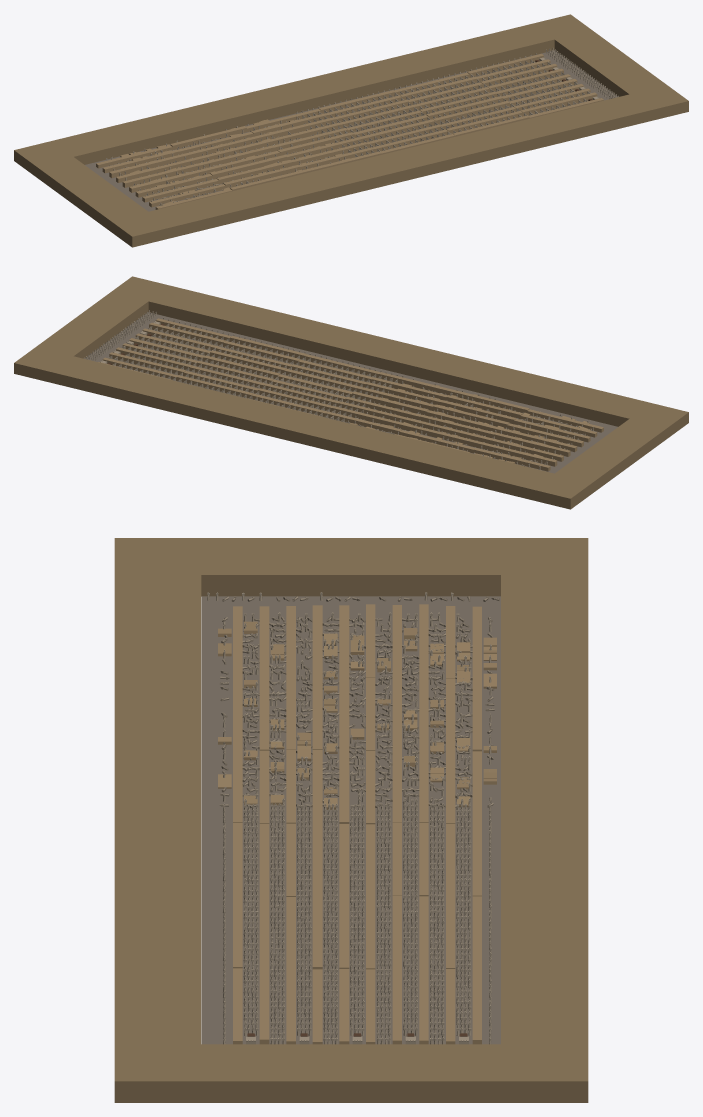
File: terracotta-army-ruin.glb
The picture shows the model from 3 angles, top to bottom: view 1: azimuth 30°, elevation 25°; view 2: azimuth 150°, elevation 25°; view 3: azimuth 270°, elevation 25°; orthographic projection. The views are drawn at different scales.
Visible parts, largest first — view 1: tca-earth, tca-wall, tca-clay, tca-floor, tca-broken; view 2: tca-earth, tca-wall, tca-clay, tca-floor, tca-broken; view 3: tca-earth, tca-floor, tca-wall, tca-clay, tca-broken.
Part boxes in pixels (x1,y1,x2,y2): tca-earth: (14,14,688,247); tca-wall: (96,53,603,209); tca-clay: (106,48,618,205); tca-floor: (85,50,617,211); tca-broken: (113,115,336,205); tca-earth: (14,276,688,509); tca-wall: (98,318,603,471); tca-clay: (83,310,593,469); tca-floor: (85,312,617,473); tca-broken: (349,386,589,470); tca-earth: (114,538,588,1102); tca-floor: (201,596,500,1044); tca-wall: (218,604,496,1044); tca-clay: (207,592,491,1044); tca-broken: (219,596,499,808).
Bounding box in the file's own units: 266 × 5.32 × 97.98.
